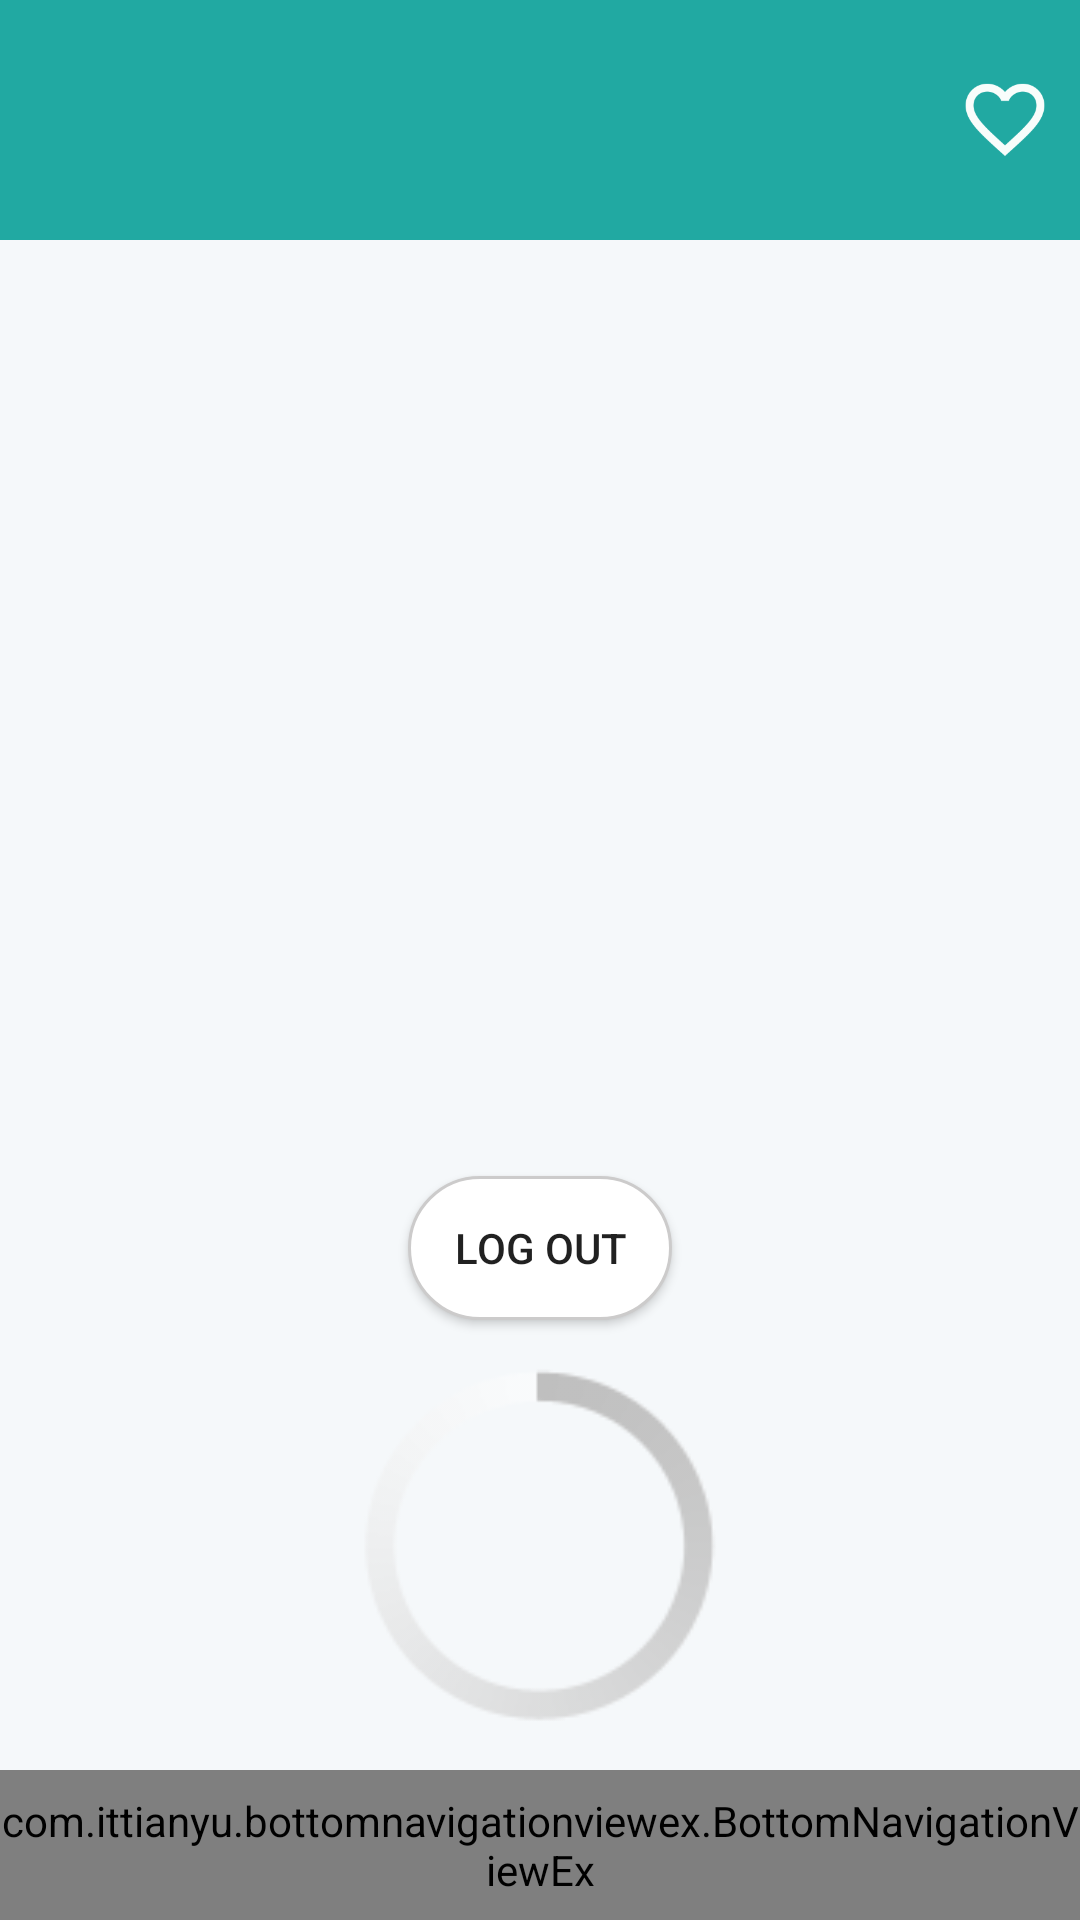

Locate icon controls on the screen. Image size 1080w x 1920h, boxes as (x1, y1, x2, y2).
fav msg: (965, 84, 1045, 156)
